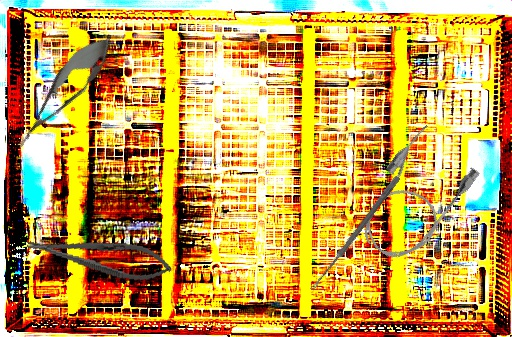Cannula: (344, 121, 485, 272)
Micro Scissor: (3, 23, 125, 160)
Needle Holder: (23, 224, 175, 288)
Surgical Spoon: (309, 174, 401, 293)
